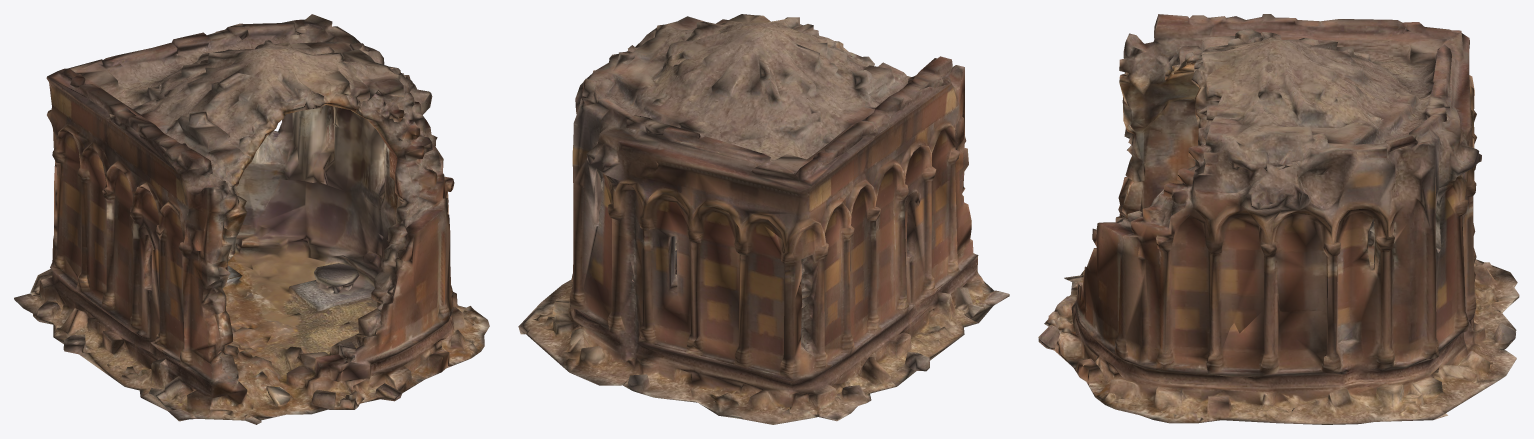
Rendered from city_kars_ani_cathedral.glb.
3 views of the same model, side by side, from view 1: azimuth 30°, elevation 25°; view 2: azimuth 150°, elevation 25°; view 3: azimuth 270°, elevation 25° (orthographic). The views are drawn at different scales.
Parts seen in each view (by area): view 1: Mesh1.0; view 2: Mesh1.0; view 3: Mesh1.0.
Part boxes in pixels (x1=…): Mesh1.0: x1=14, y1=14, x2=489, y2=424; Mesh1.0: x1=518, y1=14, x2=1009, y2=424; Mesh1.0: x1=1038, y1=14, x2=1519, y2=424.
Size of the model in its own units: 20.23 by 15 by 22.15.
1 material, 1 textured.
